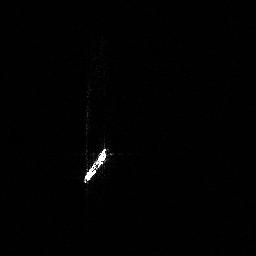ship: (79, 144, 112, 186)
